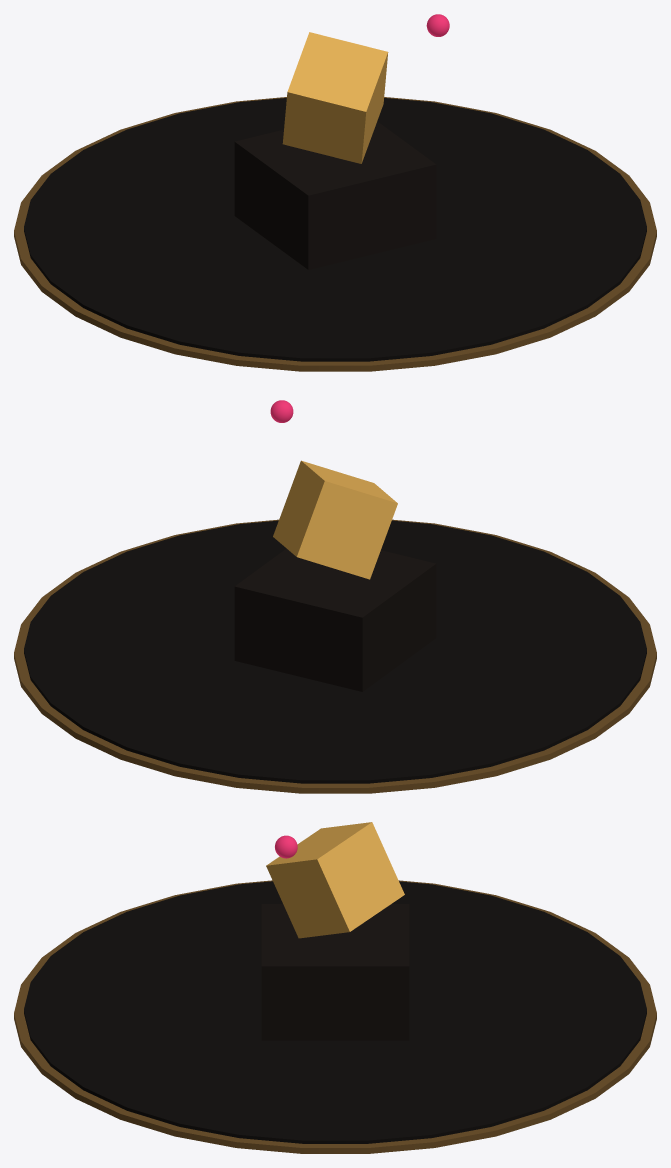
File: docs__demos__blender-x3d-io__v1__scenes__annotation-standard.glb
3 views of the same model, one above another, from view 1: azimuth 30°, elevation 25°; view 2: azimuth 150°, elevation 25°; view 3: azimuth 270°, elevation 25° (orthographic).
Visible parts, largest first — view 1: shape_0, shape_2, shape_1, shape_3; view 2: shape_0, shape_2, shape_1, shape_3; view 3: shape_0, shape_2, shape_3, shape_1.
Part boxes in pixels (x1=…): shape_0: x1=24, y1=98, x2=646, y2=361; shape_2: x1=234, y1=121, x2=436, y2=269; shape_1: x1=14, y1=97, x2=656, y2=371; shape_3: x1=282, y1=32, x2=388, y2=163; shape_0: x1=24, y1=520, x2=646, y2=783; shape_2: x1=234, y1=548, x2=436, y2=691; shape_1: x1=14, y1=519, x2=656, y2=793; shape_3: x1=273, y1=460, x2=397, y2=579; shape_0: x1=24, y1=881, x2=646, y2=1143; shape_2: x1=261, y1=904, x2=409, y2=1040; shape_3: x1=266, y1=822, x2=404, y2=938; shape_1: x1=14, y1=880, x2=656, y2=1153.
Bounding box in the file's own units: 3.9 × 1.48 × 3.92.
